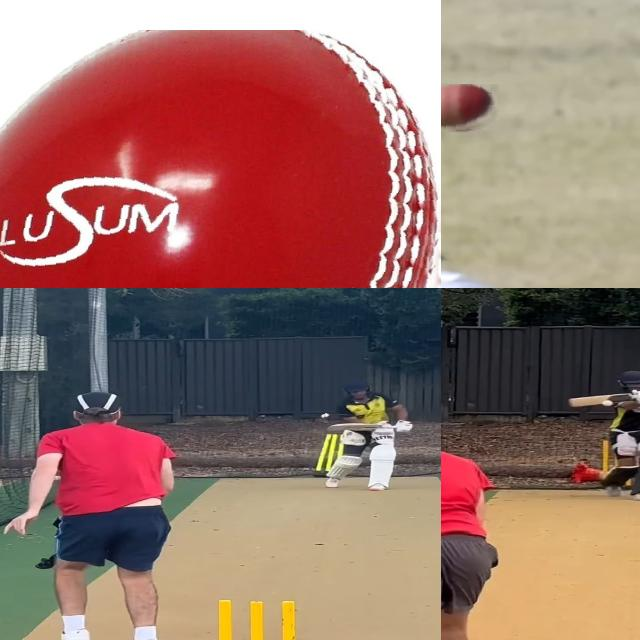Cricket ball: (0, 30, 441, 288), (441, 83, 499, 135), (601, 400, 615, 407), (319, 413, 332, 419)
Stumps: (202, 599, 312, 640), (308, 431, 342, 478)
